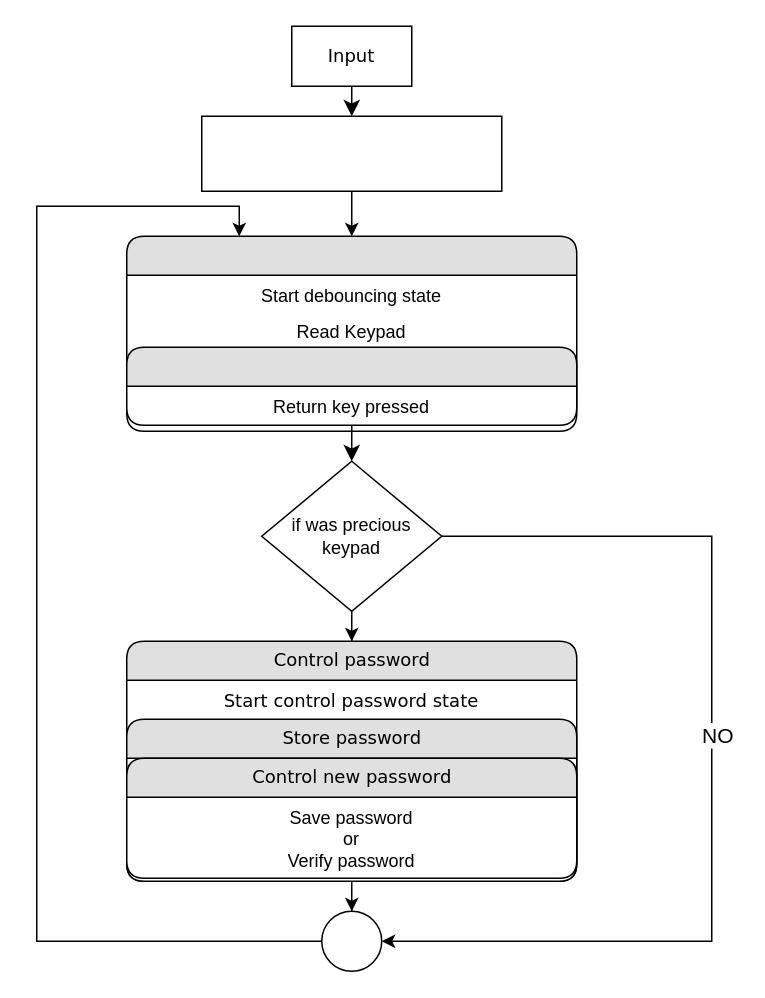
The diagram is 765 pixels wide and 998 high, and some of its shapes have lost their labels. The shapes that lost their labels are listed below. From the top down, each one's box as (x1, y1, x2, y2) in pixels, then its label:
(200, 115, 502, 191): Start gpio values Default password Start control new password
(125, 235, 577, 431): Control Keypad
(125, 346, 577, 425): debouncing Keypad
